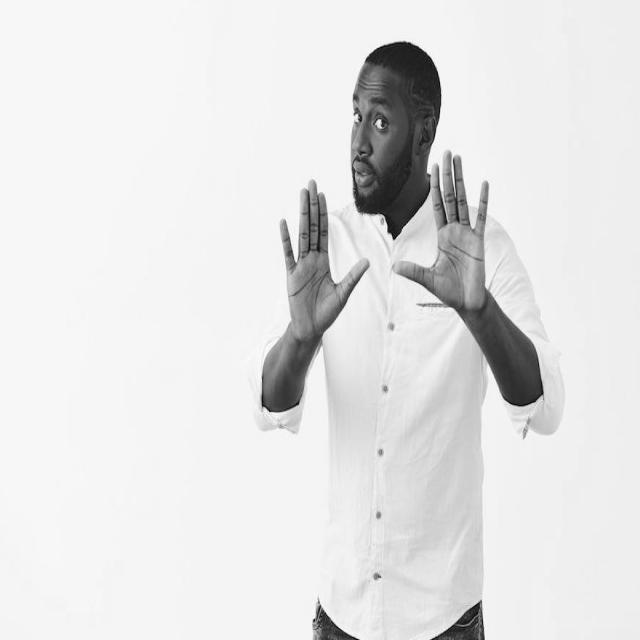stop: (387, 142, 493, 317), (276, 173, 373, 349)
